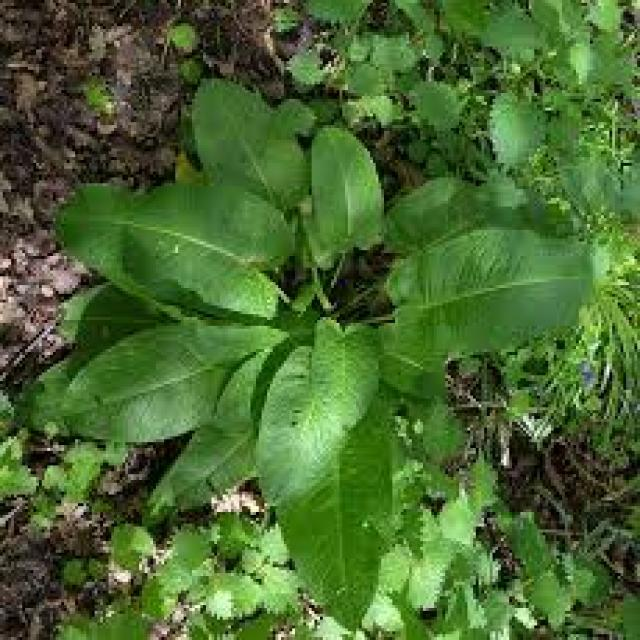organic waste: (53, 58, 598, 605)
